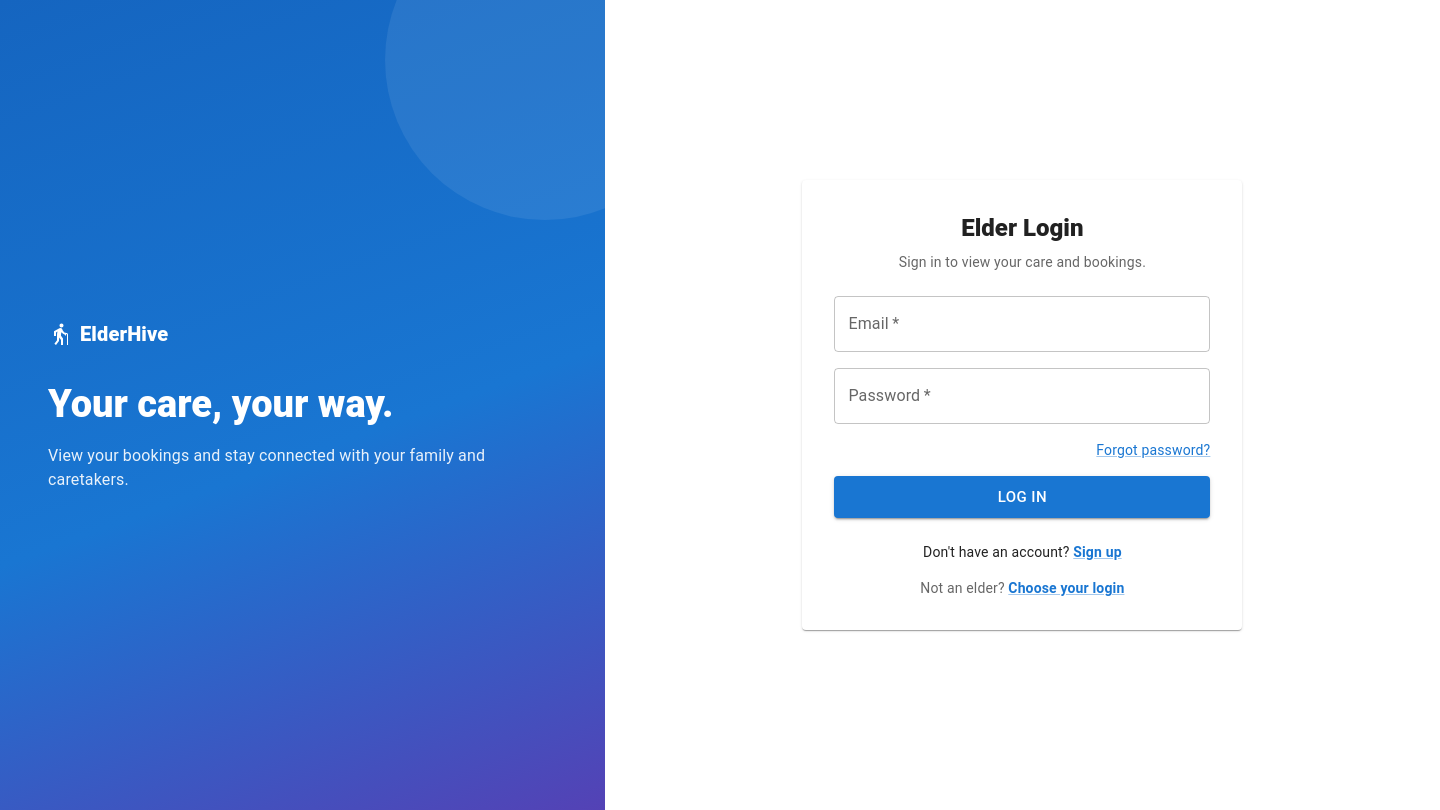
RoleLoginPage › shows the backend's error message when login itself fails
The width and height of the screenshot is (1440, 810).
Type "elder@example.com" into the field labelled "Email *" at (1022, 324), box [834,296,1210,352]
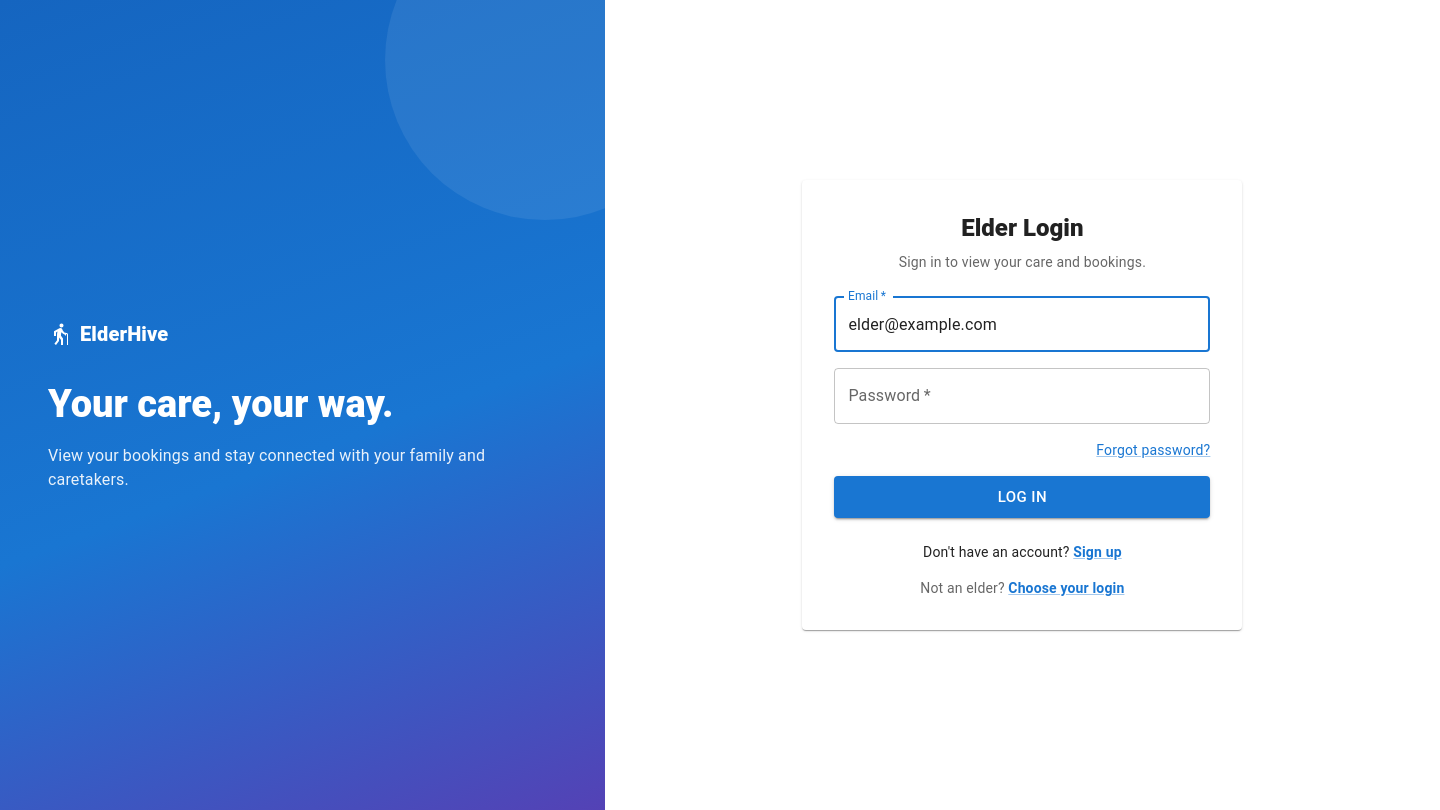
Type "wrongpass" into the password field labelled "Password *" at (1022, 396), box [834,368,1210,424]
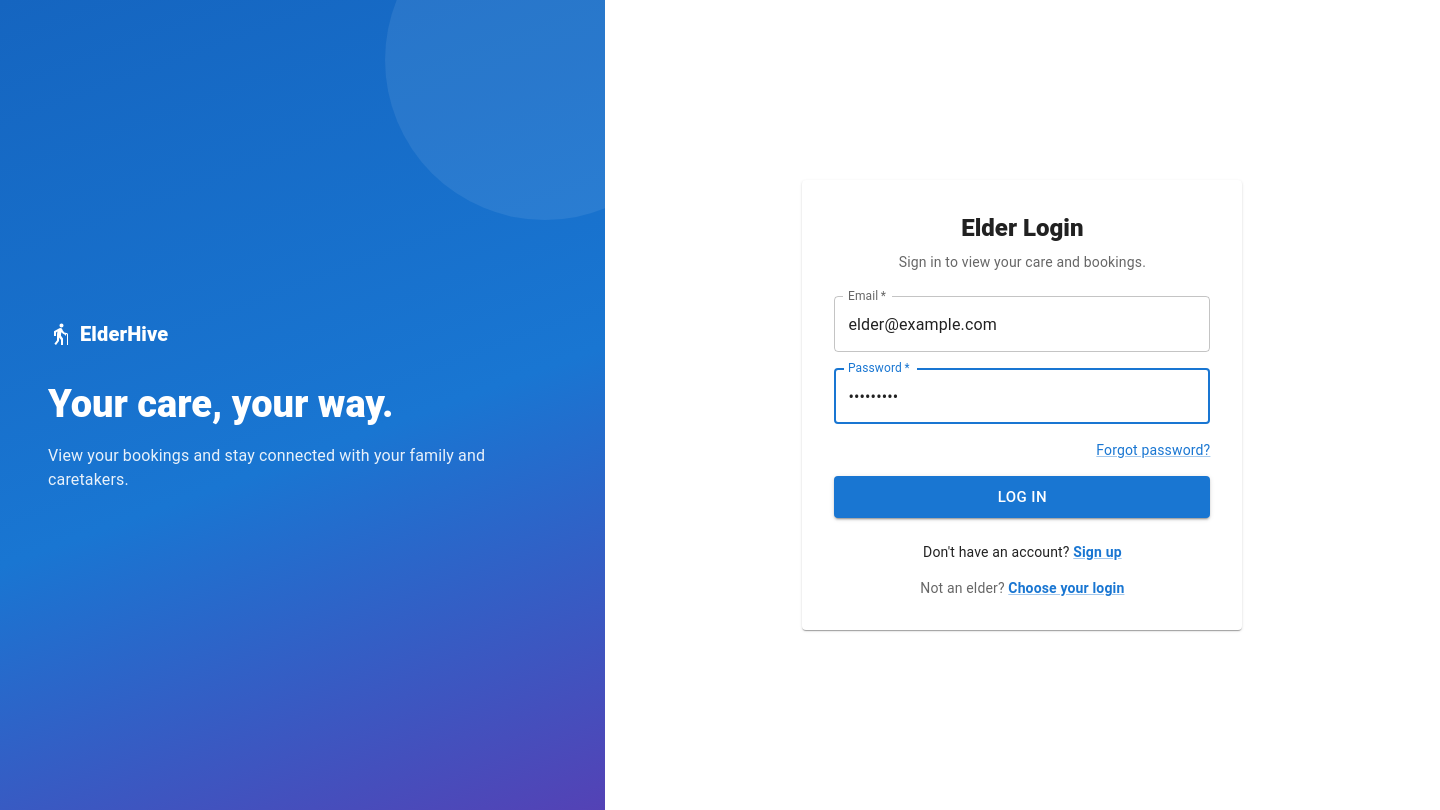
Click the button "Log In" at (1022, 497), box [834,476,1210,518]
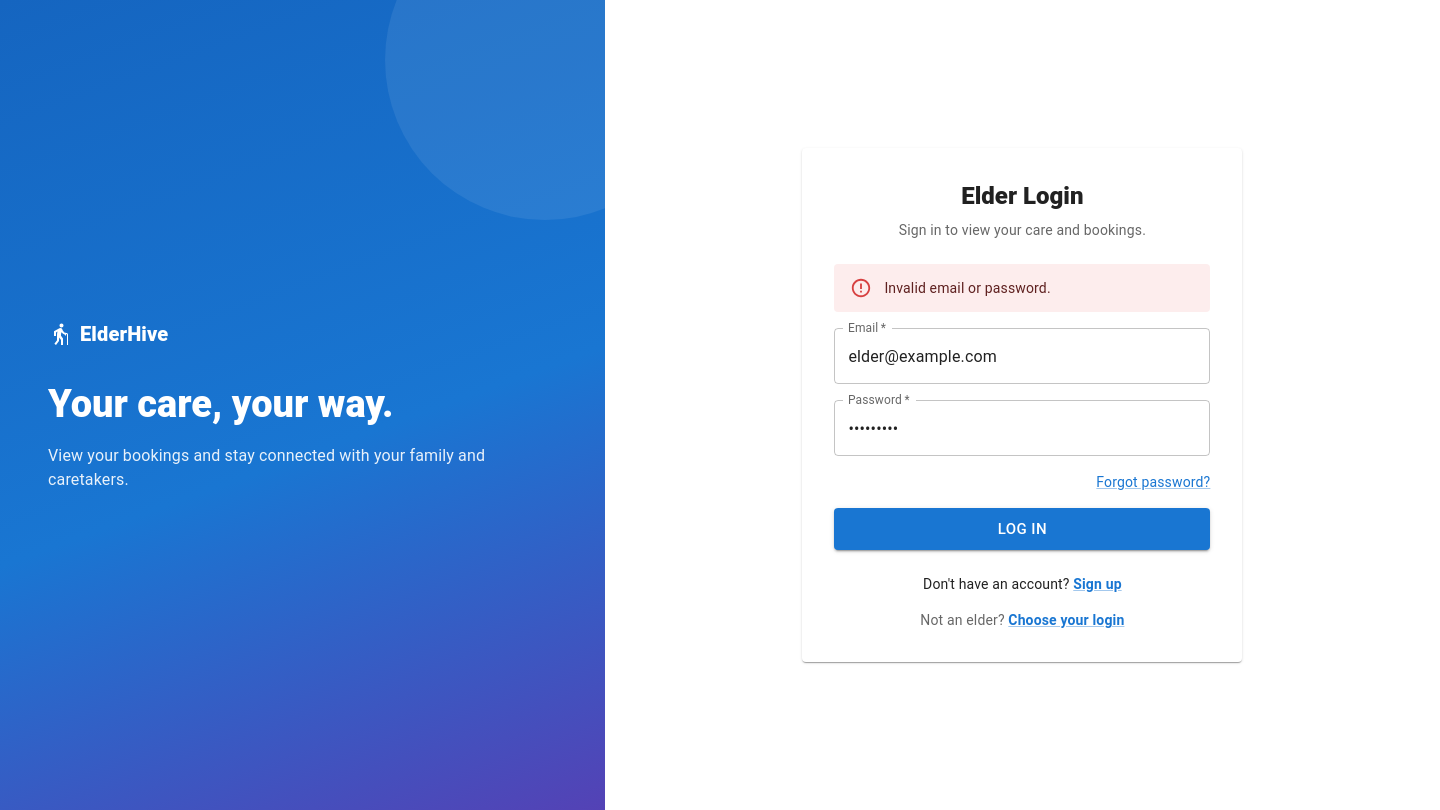
Now the text "Invalid email or password." is shown, box [884,280,1051,296]
